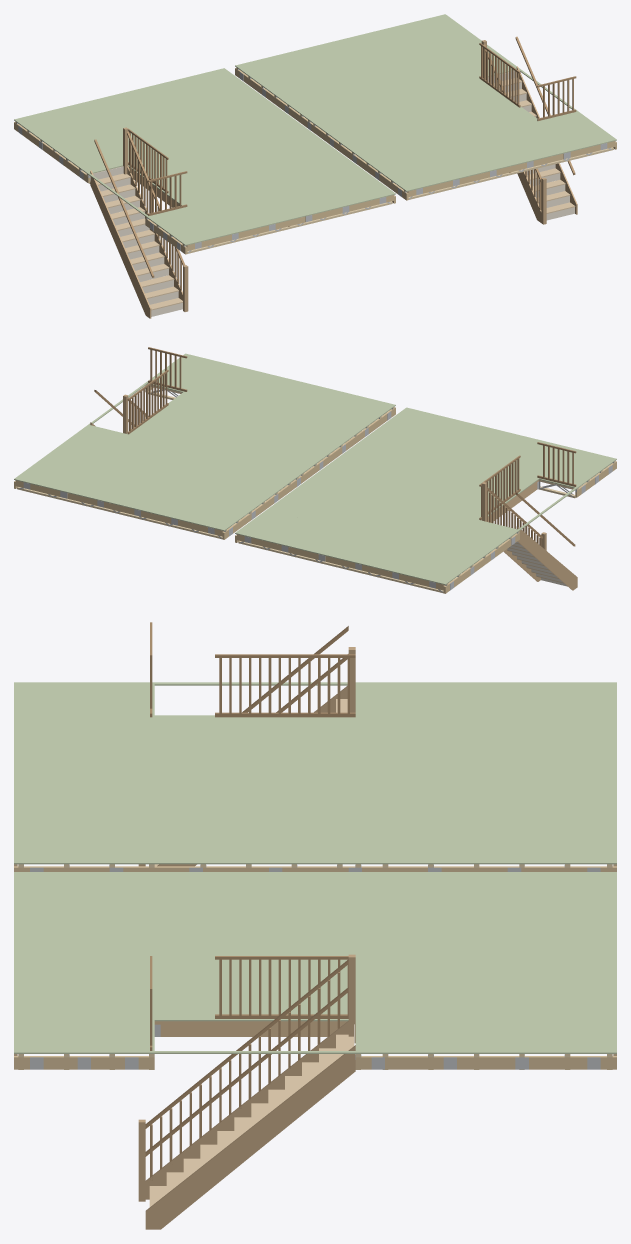
The model's file is stage-3.glb.
The picture shows the model from 3 angles, top to bottom: view 1: azimuth 30°, elevation 25°; view 2: azimuth 150°, elevation 25°; view 3: azimuth 270°, elevation 25°; orthographic projection. The views are drawn at different scales.
Visible parts, largest first — view 1: Geom3D (×8); view 2: Geom3D (×9); view 3: Geom3D (×7).
Part boxes in pixels (box(x1,y1,x2,y2)): Geom3D (×8): box(14, 14, 616, 318); Geom3D (×9): box(14, 347, 616, 593); Geom3D (×7): box(14, 622, 616, 1229).
Bounding box in the file's own units: 11.55 × 3.55 × 7.95.
